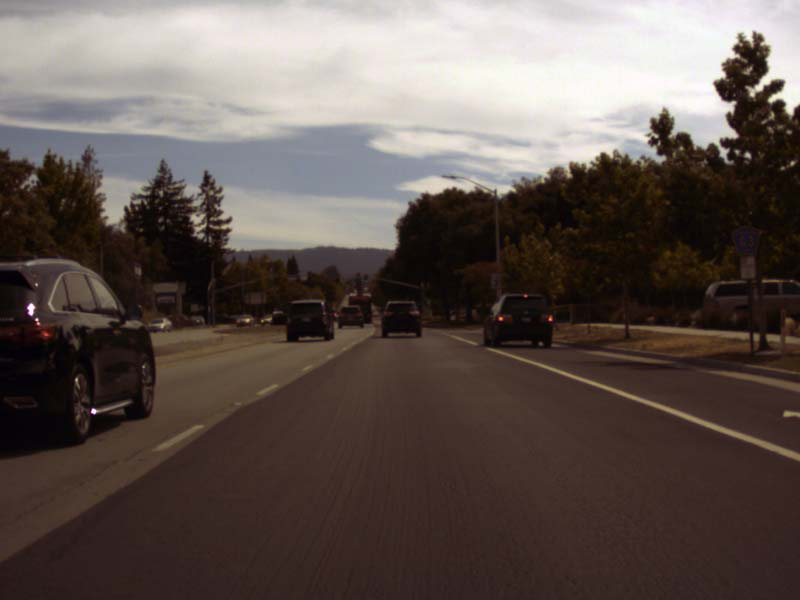Green: (363, 275, 368, 284)
Red: (335, 275, 339, 283)
